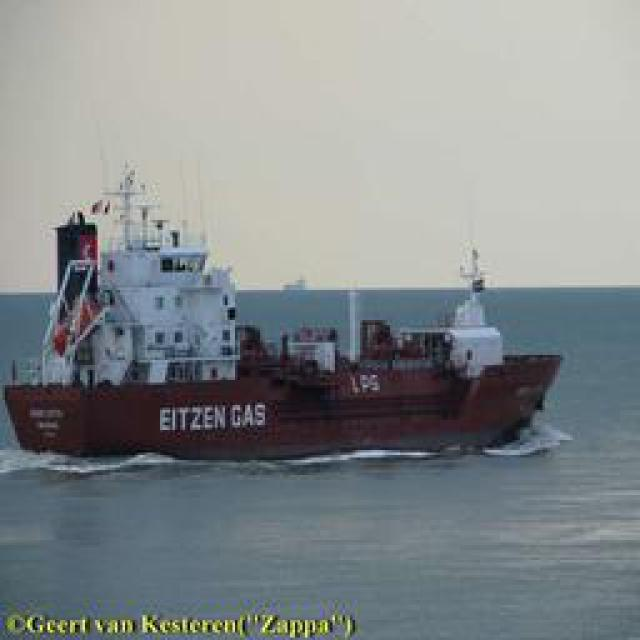Ship: (10, 255, 573, 465)
